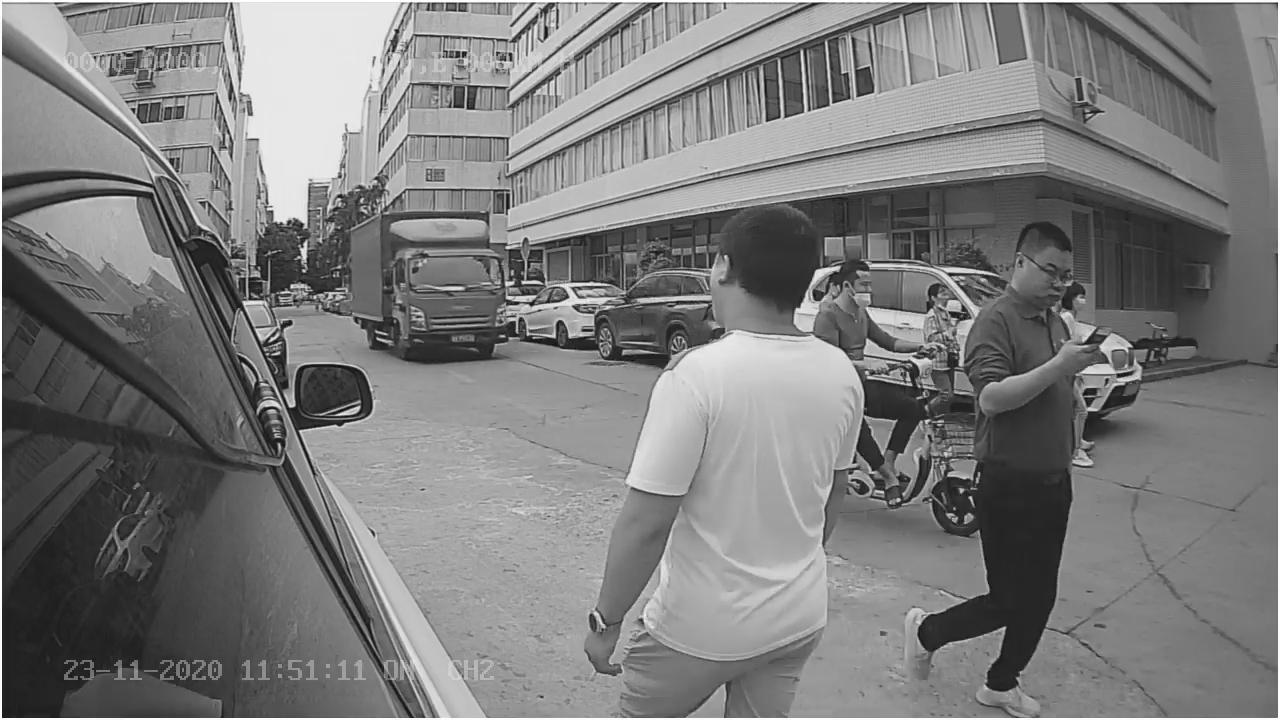person: (900, 210, 1105, 705)
